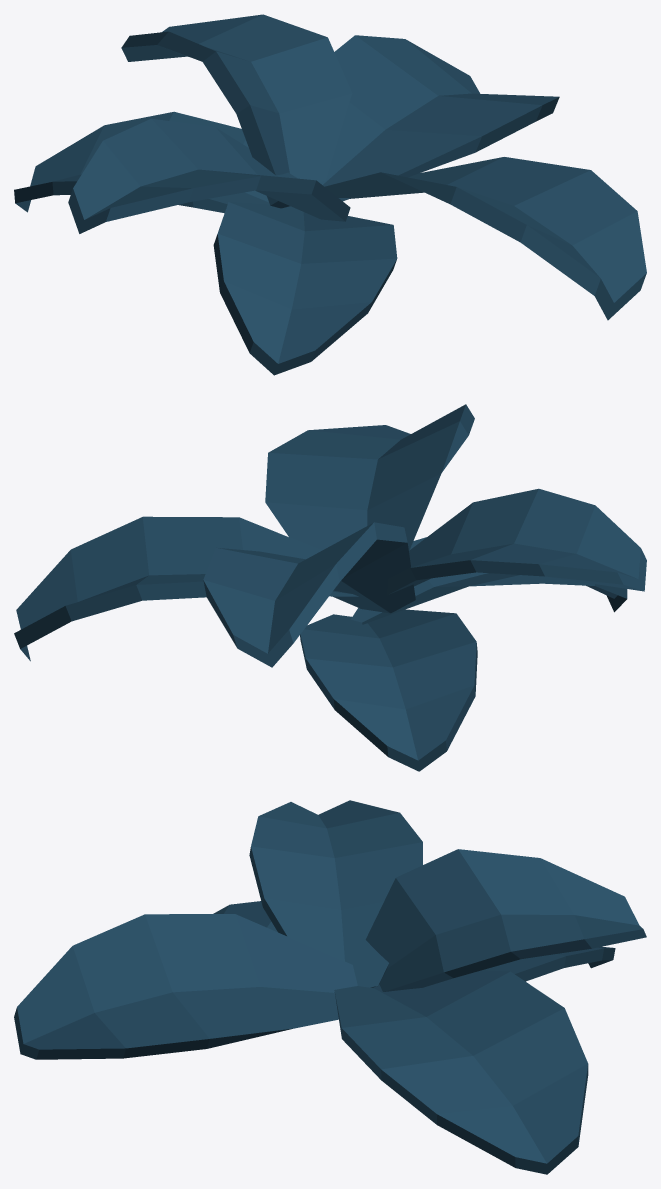
The model's file is fbBush4.fbx.
The picture shows the model from 3 angles, top to bottom: view 1: azimuth 30°, elevation 25°; view 2: azimuth 150°, elevation 25°; view 3: azimuth 270°, elevation 25°; orthographic projection. The views are drawn at different scales.
Visible parts, largest first — view 1: fbBush4; view 2: fbBush4; view 3: fbBush4.
Boxes of the visible parts, x1,y1,x2,y2 form: fbBush4: (14,14,646,375); fbBush4: (14,404,646,771); fbBush4: (14,800,646,1174).
Size of the model in its own units: 117 by 37.93 by 121.
